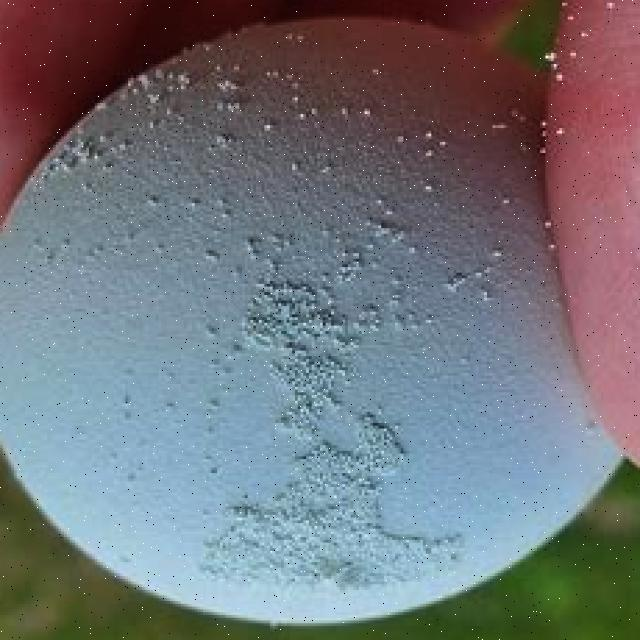Calcium Deposit Egg: (0, 6, 626, 637)
